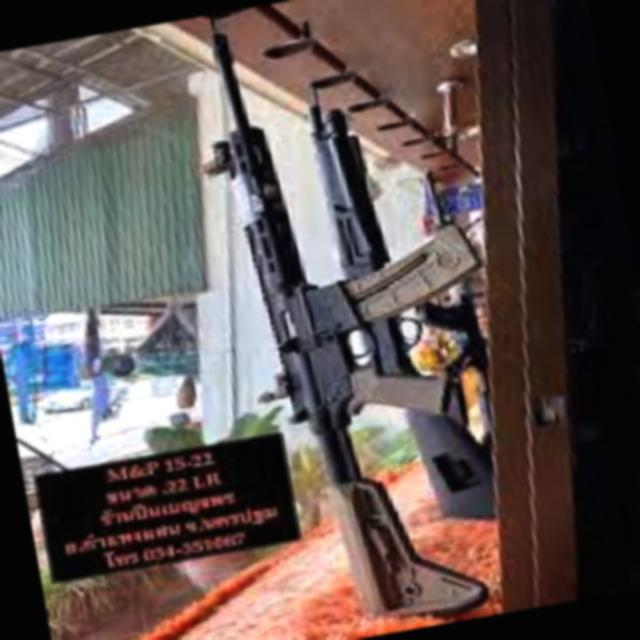m16: (202, 63, 492, 630)
